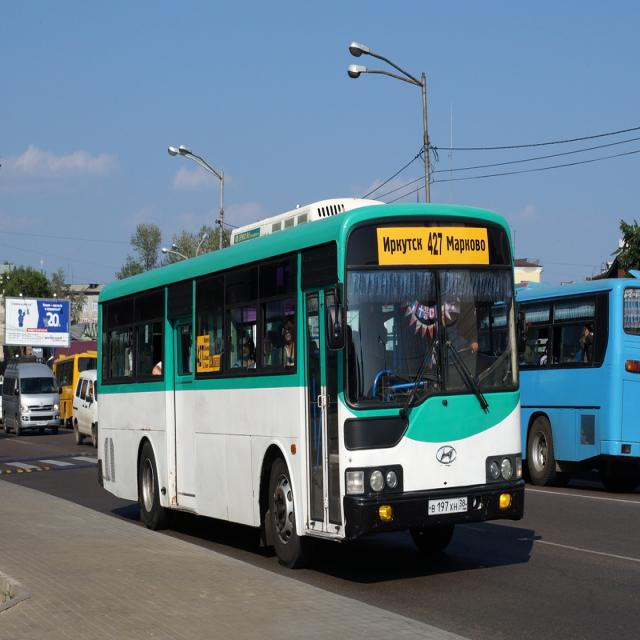number-of-bus: (427, 228, 446, 259)
